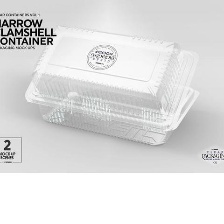plastic_box: (16, 19, 206, 152)
